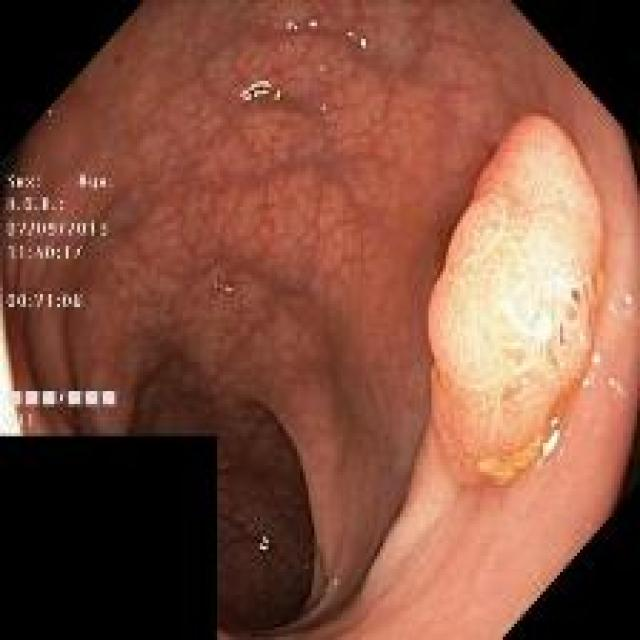Polyps: (429, 116, 602, 485)
